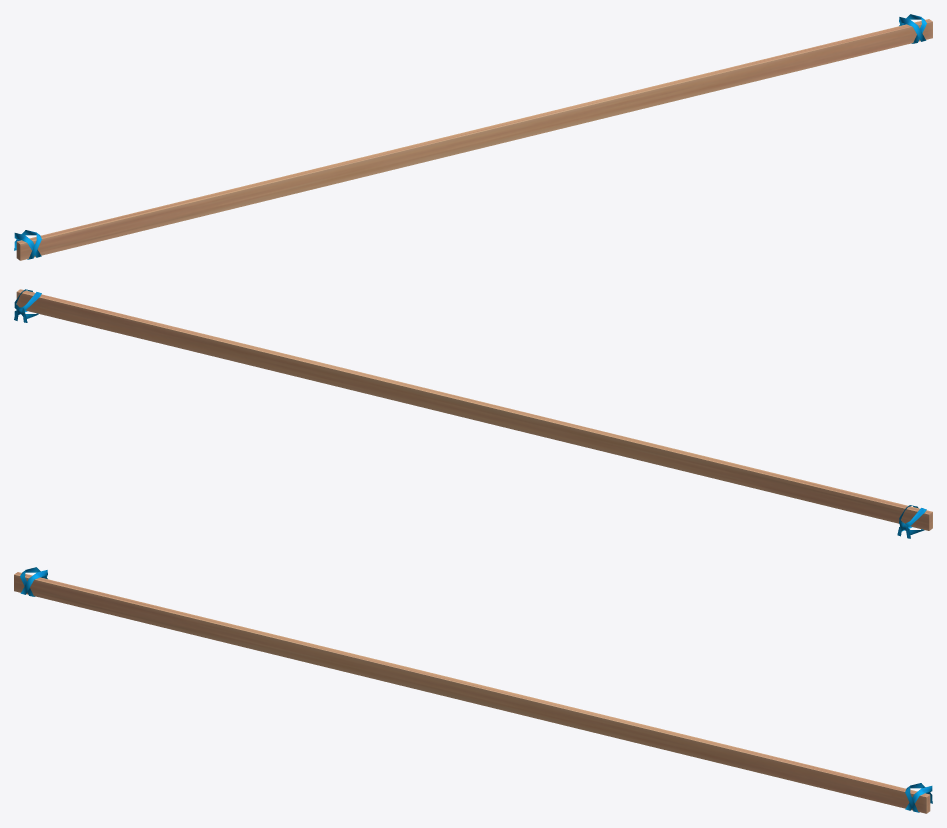
Rendered from jsf_2P_s03_DisplayCabinet_02.fbx.
The picture shows the model from 3 angles, top to bottom: view 1: azimuth 30°, elevation 25°; view 2: azimuth 150°, elevation 25°; view 3: azimuth 330°, elevation 25°; orthographic projection.
Visible parts, largest first — view 1: jsf_2P_s03_DisplayCabinet_02; view 2: jsf_2P_s03_DisplayCabinet_02; view 3: jsf_2P_s03_DisplayCabinet_02.
Boxes of the visible parts, x1,y1,x2,y2 form: jsf_2P_s03_DisplayCabinet_02: (14,14,932,260); jsf_2P_s03_DisplayCabinet_02: (14,289,932,538); jsf_2P_s03_DisplayCabinet_02: (14,567,932,813).
Bounding box in the file's own units: 258 × 6.37 × 7.64.
